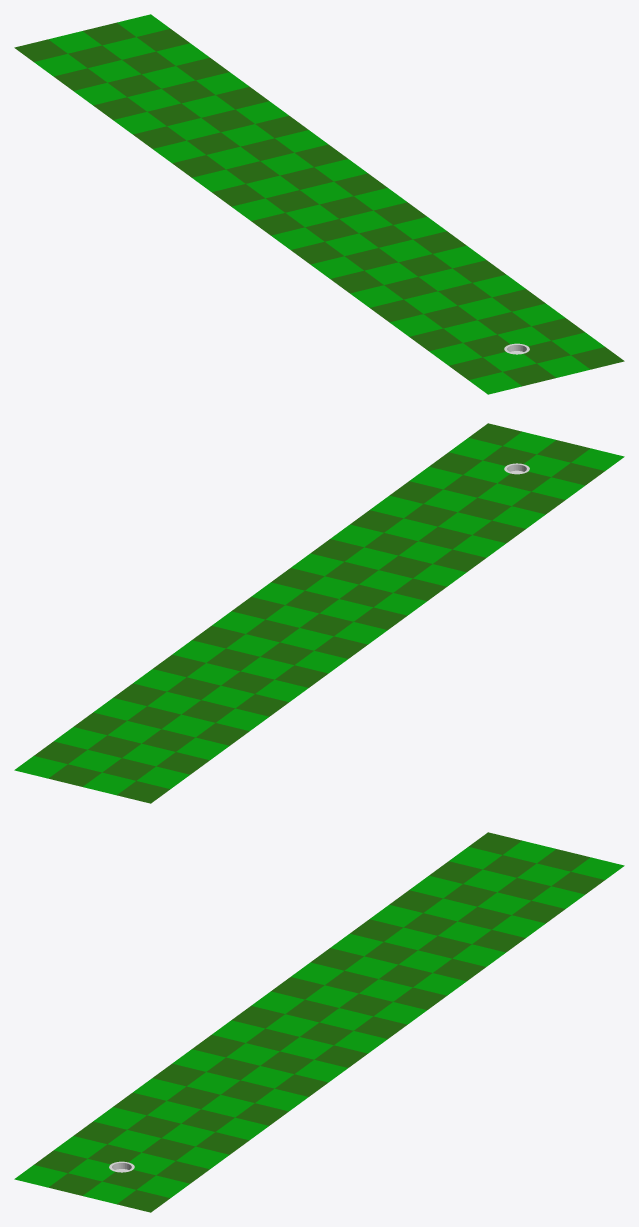
The model's file is Hole2.fbx.
3 views of the same model, one above another, from view 1: azimuth 30°, elevation 25°; view 2: azimuth 150°, elevation 25°; view 3: azimuth 330°, elevation 25° (orthographic).
Visible parts, largest first — view 1: Plane; view 2: Plane; view 3: Plane.
Part boxes in pixels (left/top/right/bottom): Plane: left=14, top=14, right=624, bottom=394; Plane: left=14, top=423, right=624, bottom=803; Plane: left=14, top=832, right=624, bottom=1212.
Bounding box in the file's own units: 800 × 130 × 4800.
